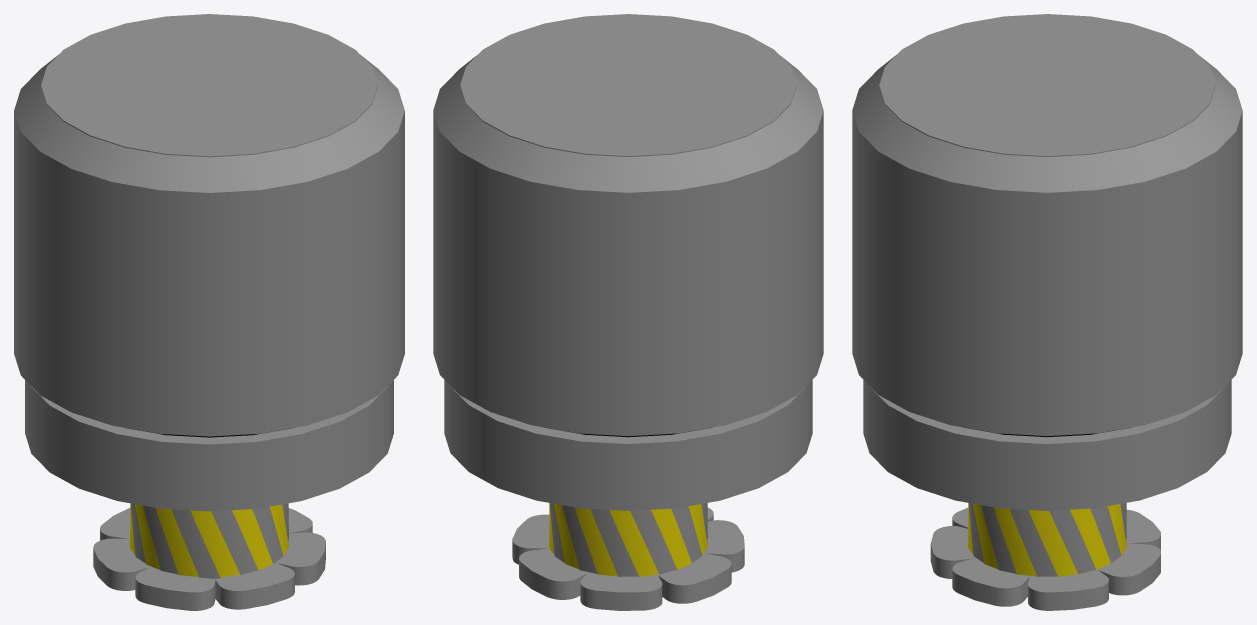
File: pressyuvarlak.fbx
The picture shows the model from 3 angles, left to right: view 1: azimuth 30°, elevation 25°; view 2: azimuth 150°, elevation 25°; view 3: azimuth 270°, elevation 25°; orthographic projection.
Visible parts, largest first — view 1: Circle; view 2: Circle; view 3: Circle.
Boxes of the visible parts, box(x1,y1,x2,y2) form: Circle: box(14, 14, 404, 610); Circle: box(433, 14, 823, 610); Circle: box(852, 14, 1242, 610).
Size of the model in its own units: 70.82 by 95.9 by 70.82.
